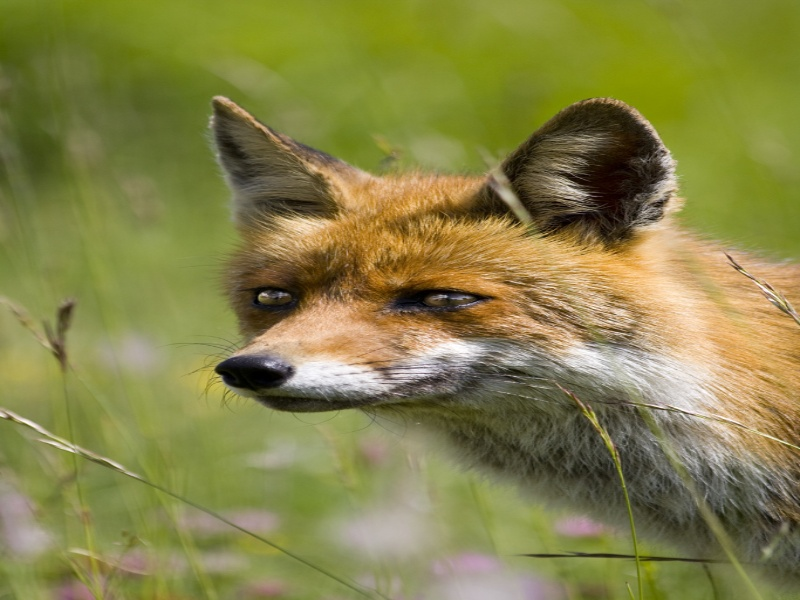fox: (206, 87, 800, 571)
